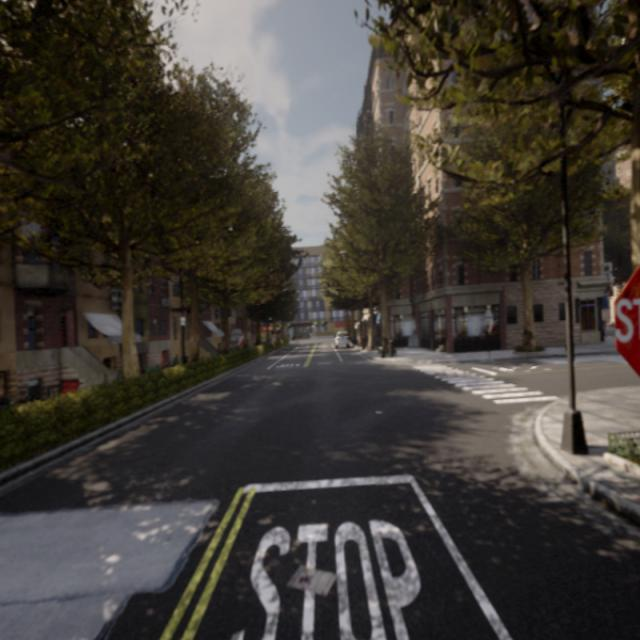stop sign: (610, 252, 640, 394)
